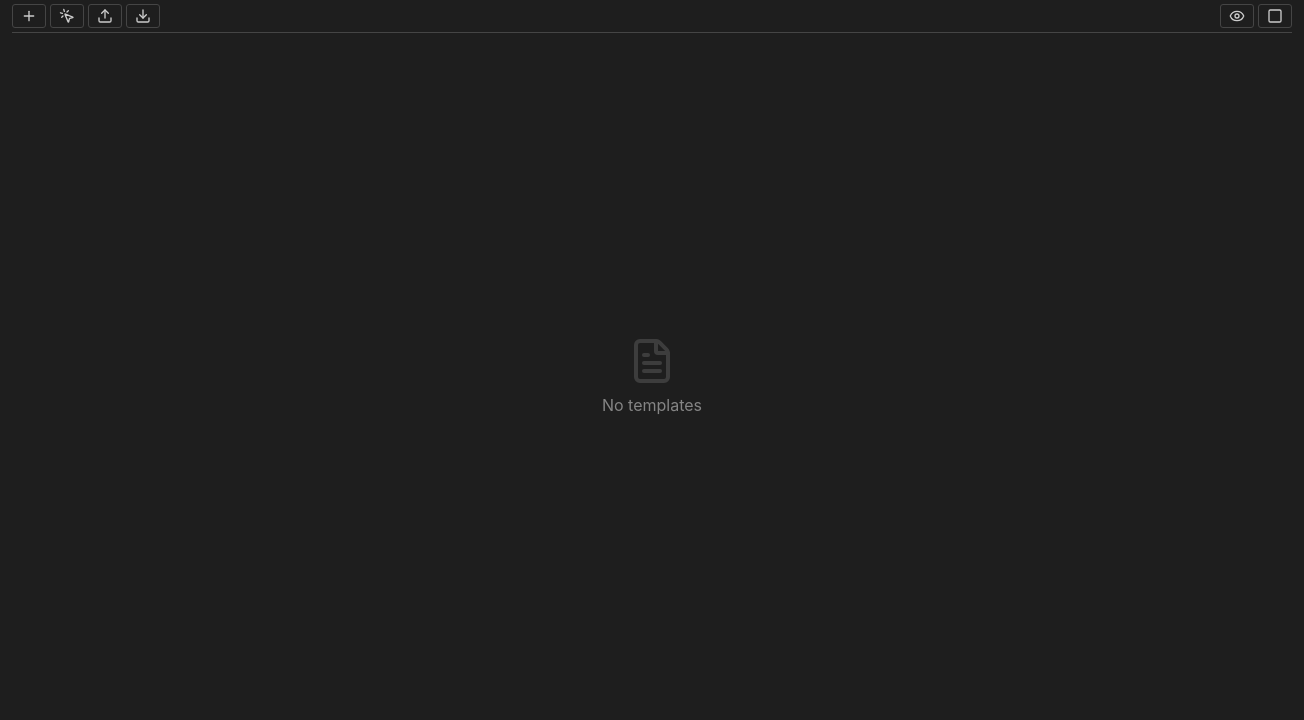
it: TemplateManager Component › should open and close the add template form
The width and height of the screenshot is (1304, 720).
# Click Add button in toolbar
Click the button titled "Add Template": (29, 16) [12,4,46,28]
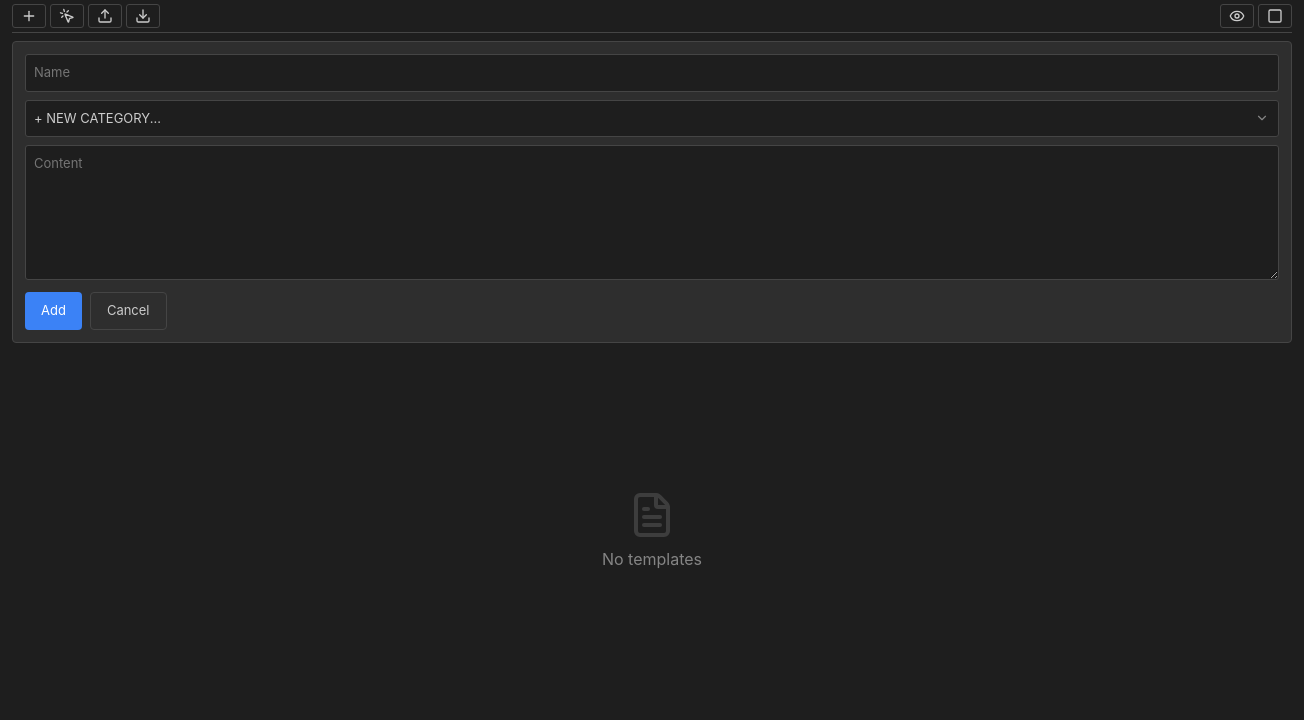
Result: the field with placeholder "Name" is shown at [25,54,1279,92]
Result: the text box with placeholder "Content" is shown at [25,145,1279,280]
# Click Cancel
Click the button "Cancel": (128, 311) [90,292,166,330]
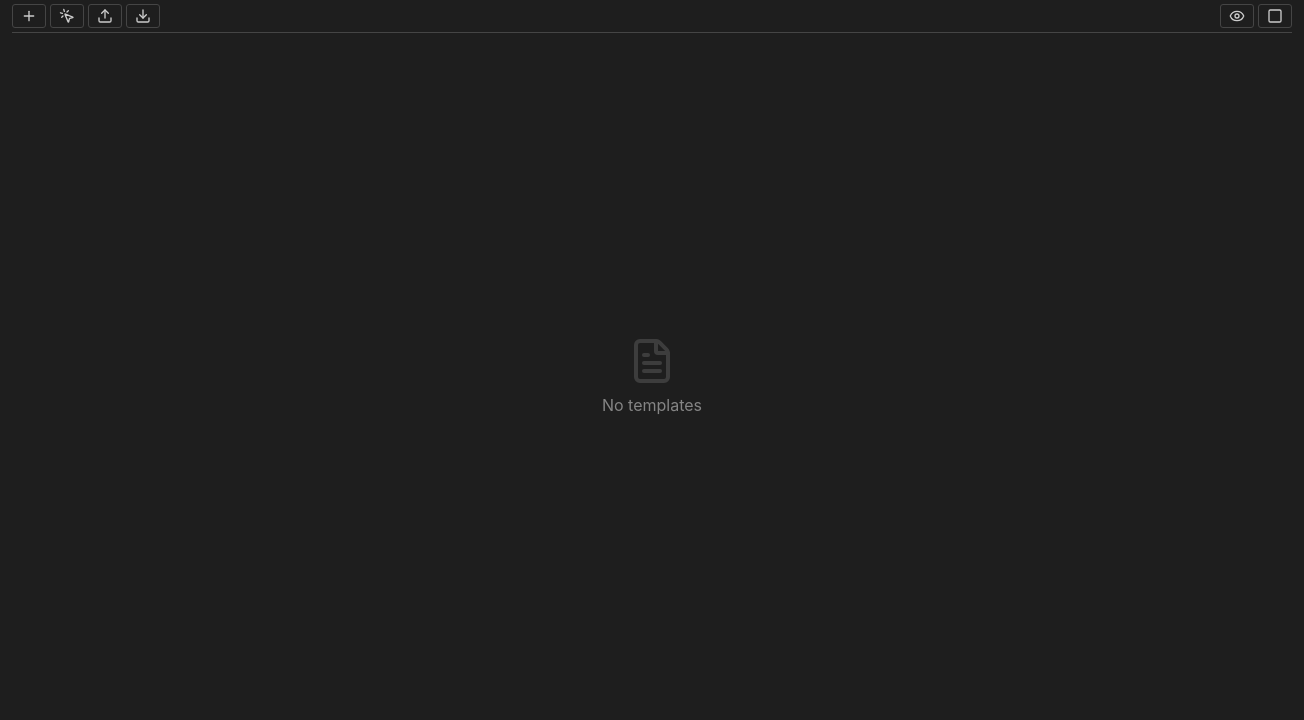
Result: the field with placeholder "Name" is gone
